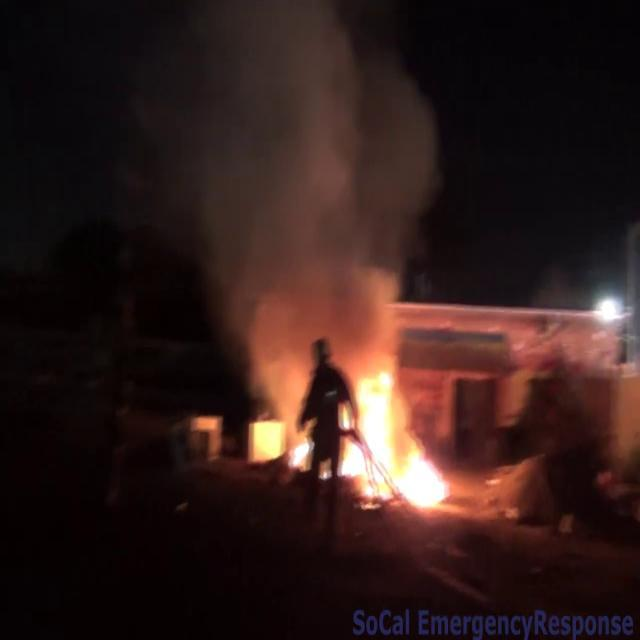Fire: (330, 355, 460, 510)
Smoke: (127, 0, 455, 359)
